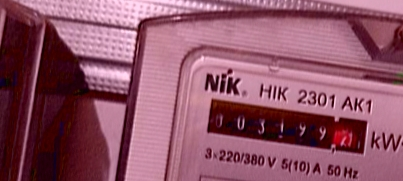0: (212, 109, 226, 129), (235, 111, 247, 131)
1: (277, 114, 287, 133)
3: (256, 116, 266, 135)
6: (338, 133, 349, 150)
9: (297, 119, 307, 137), (317, 124, 327, 142)
screen: (200, 94, 375, 162)
